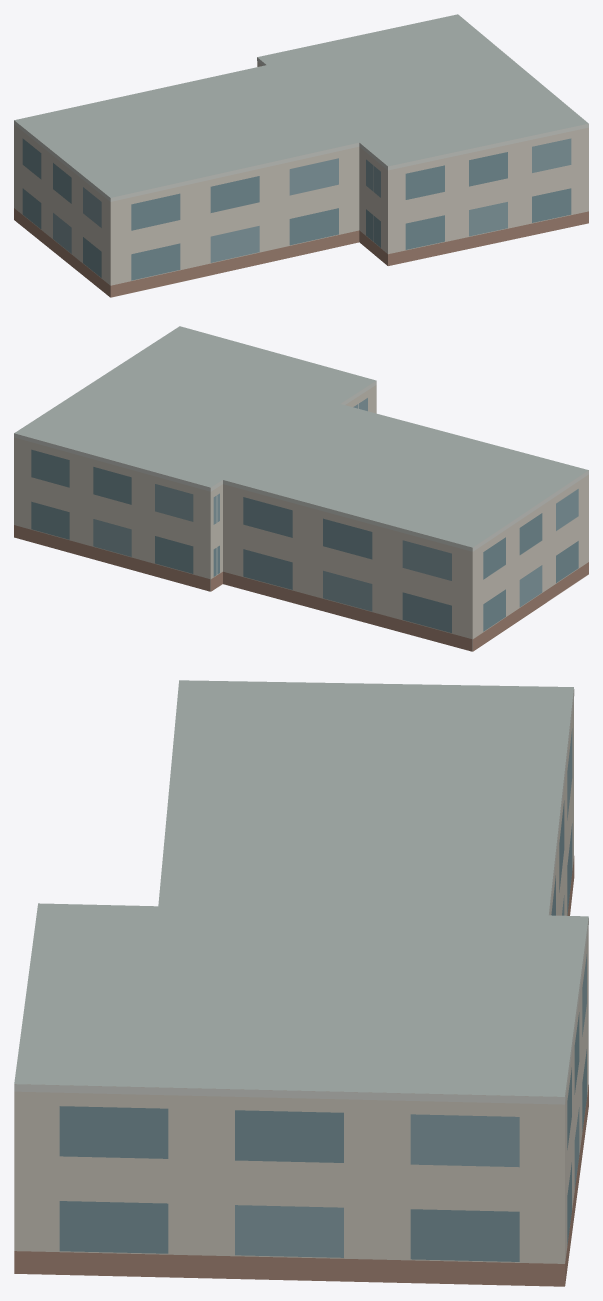
The model's file is survey-upis-32664172.glb.
3 renders of one model, top to bottom at view 1: azimuth 30°, elevation 25°; view 2: azimuth 150°, elevation 25°; view 3: azimuth 270°, elevation 25°, orthographic. The views are drawn at different scales.
Parts seen in each view (by area): view 1: survey-upis-32664172.tmp; view 2: survey-upis-32664172.tmp; view 3: survey-upis-32664172.tmp.
Boxes of the visible parts, <box> form: survey-upis-32664172.tmp: <box>14,14,588,297</box>; survey-upis-32664172.tmp: <box>14,326,588,651</box>; survey-upis-32664172.tmp: <box>14,680,588,1286</box>.
Bounding box in the file's own units: 28.75 × 6.1 × 16.76.
